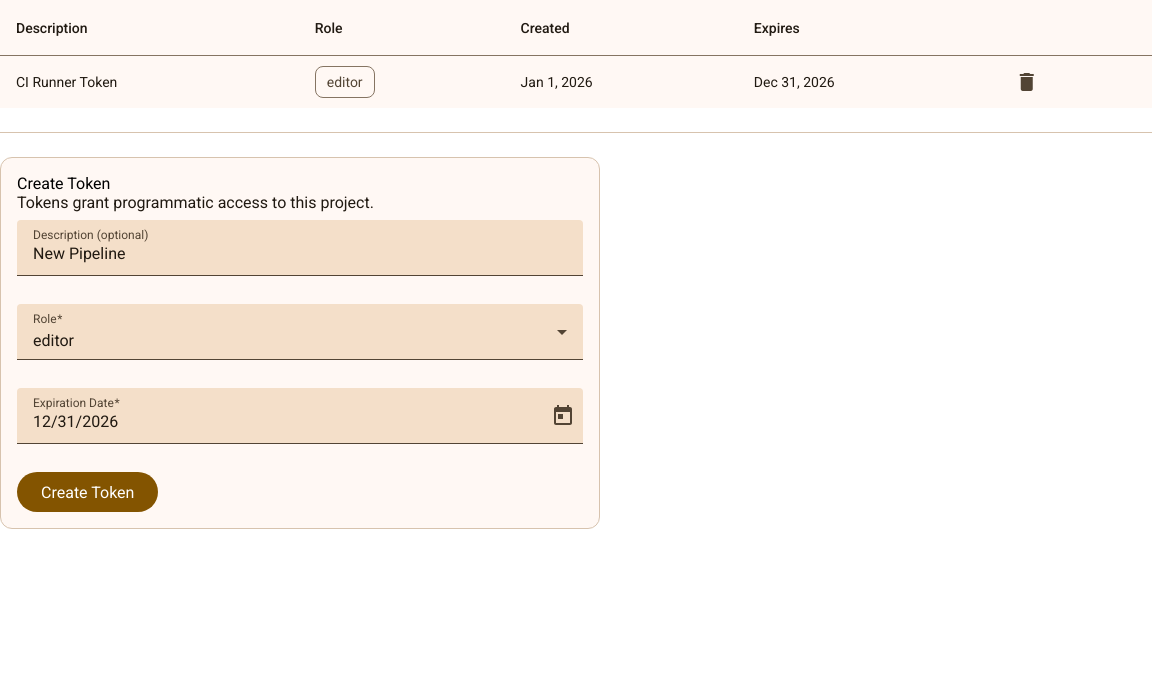
Test: ProjectTokensComponent › should create token when form is valid and submitted
Click the button with id "create-token-submit": (88, 492) left=17, top=472, right=158, bottom=512
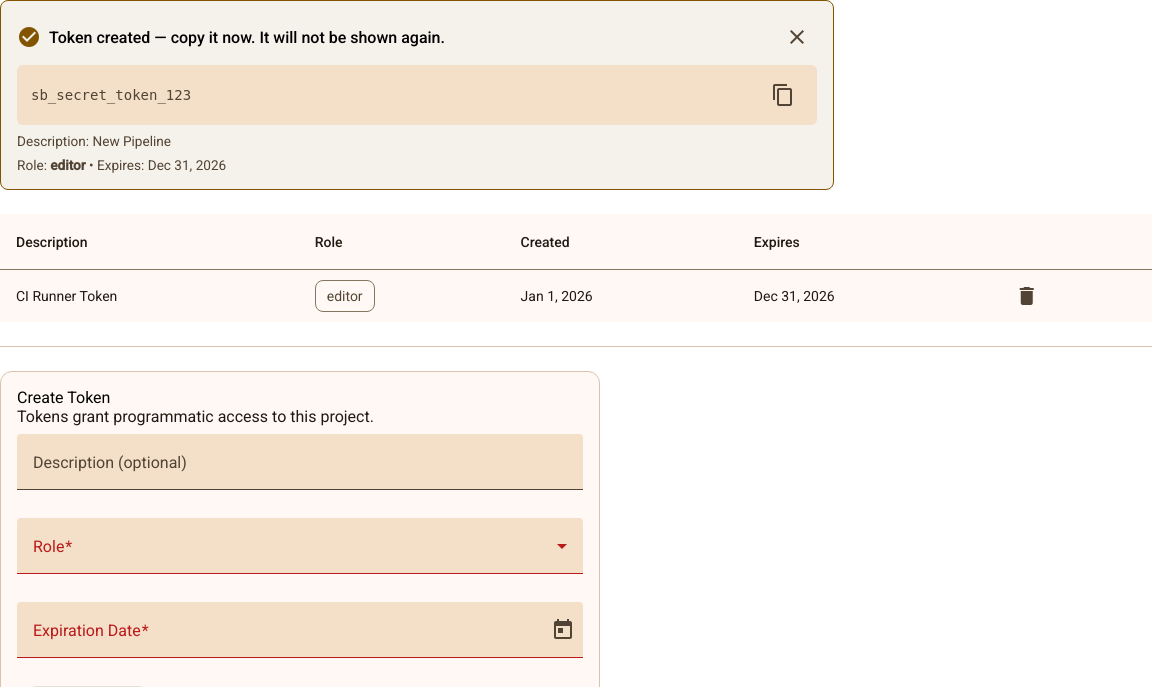
Result: the text "sb_secret_token_123" is shown at left=31, top=87, right=191, bottom=103
